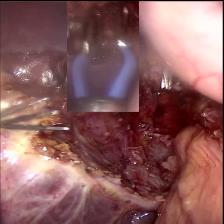Bipolar: (67, 0, 139, 111)
